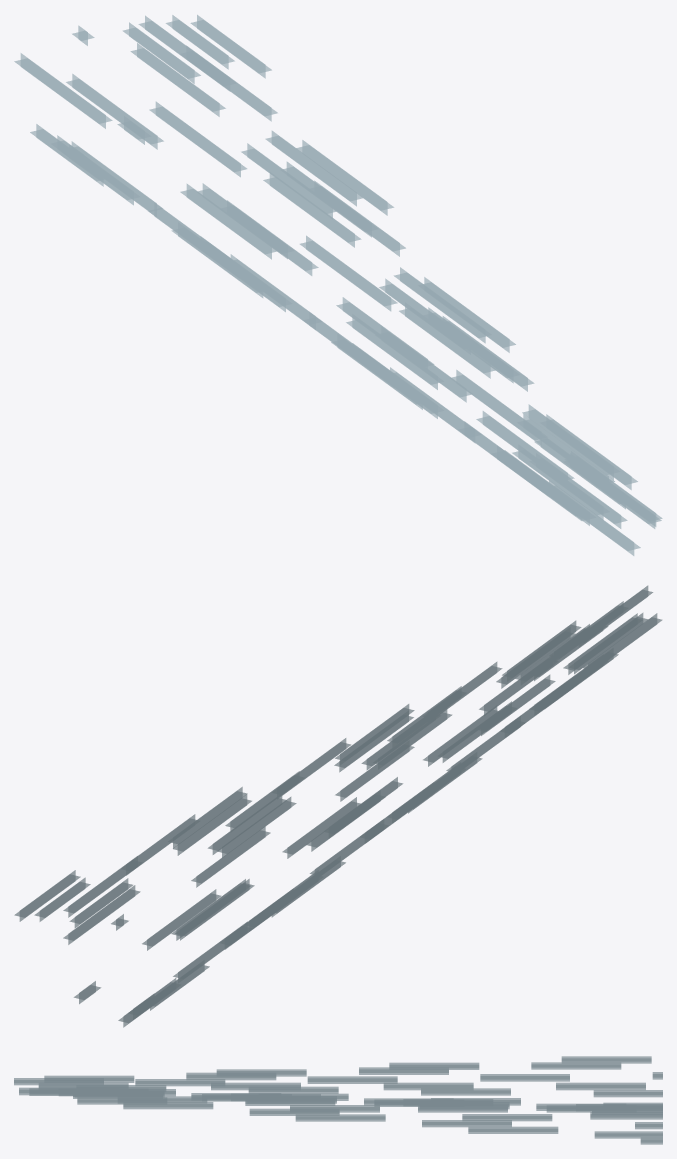
The model's file is wp_water_325.obj.
3 renders of one model, top to bottom at view 1: azimuth 30°, elevation 25°; view 2: azimuth 150°, elevation 25°; view 3: azimuth 270°, elevation 25°, orthographic. The views are drawn at different scales.
Bounding box in the file's own units: 0.3252 × 0.2526 × 1.73.
Materials: 1 (1 with a texture image).
